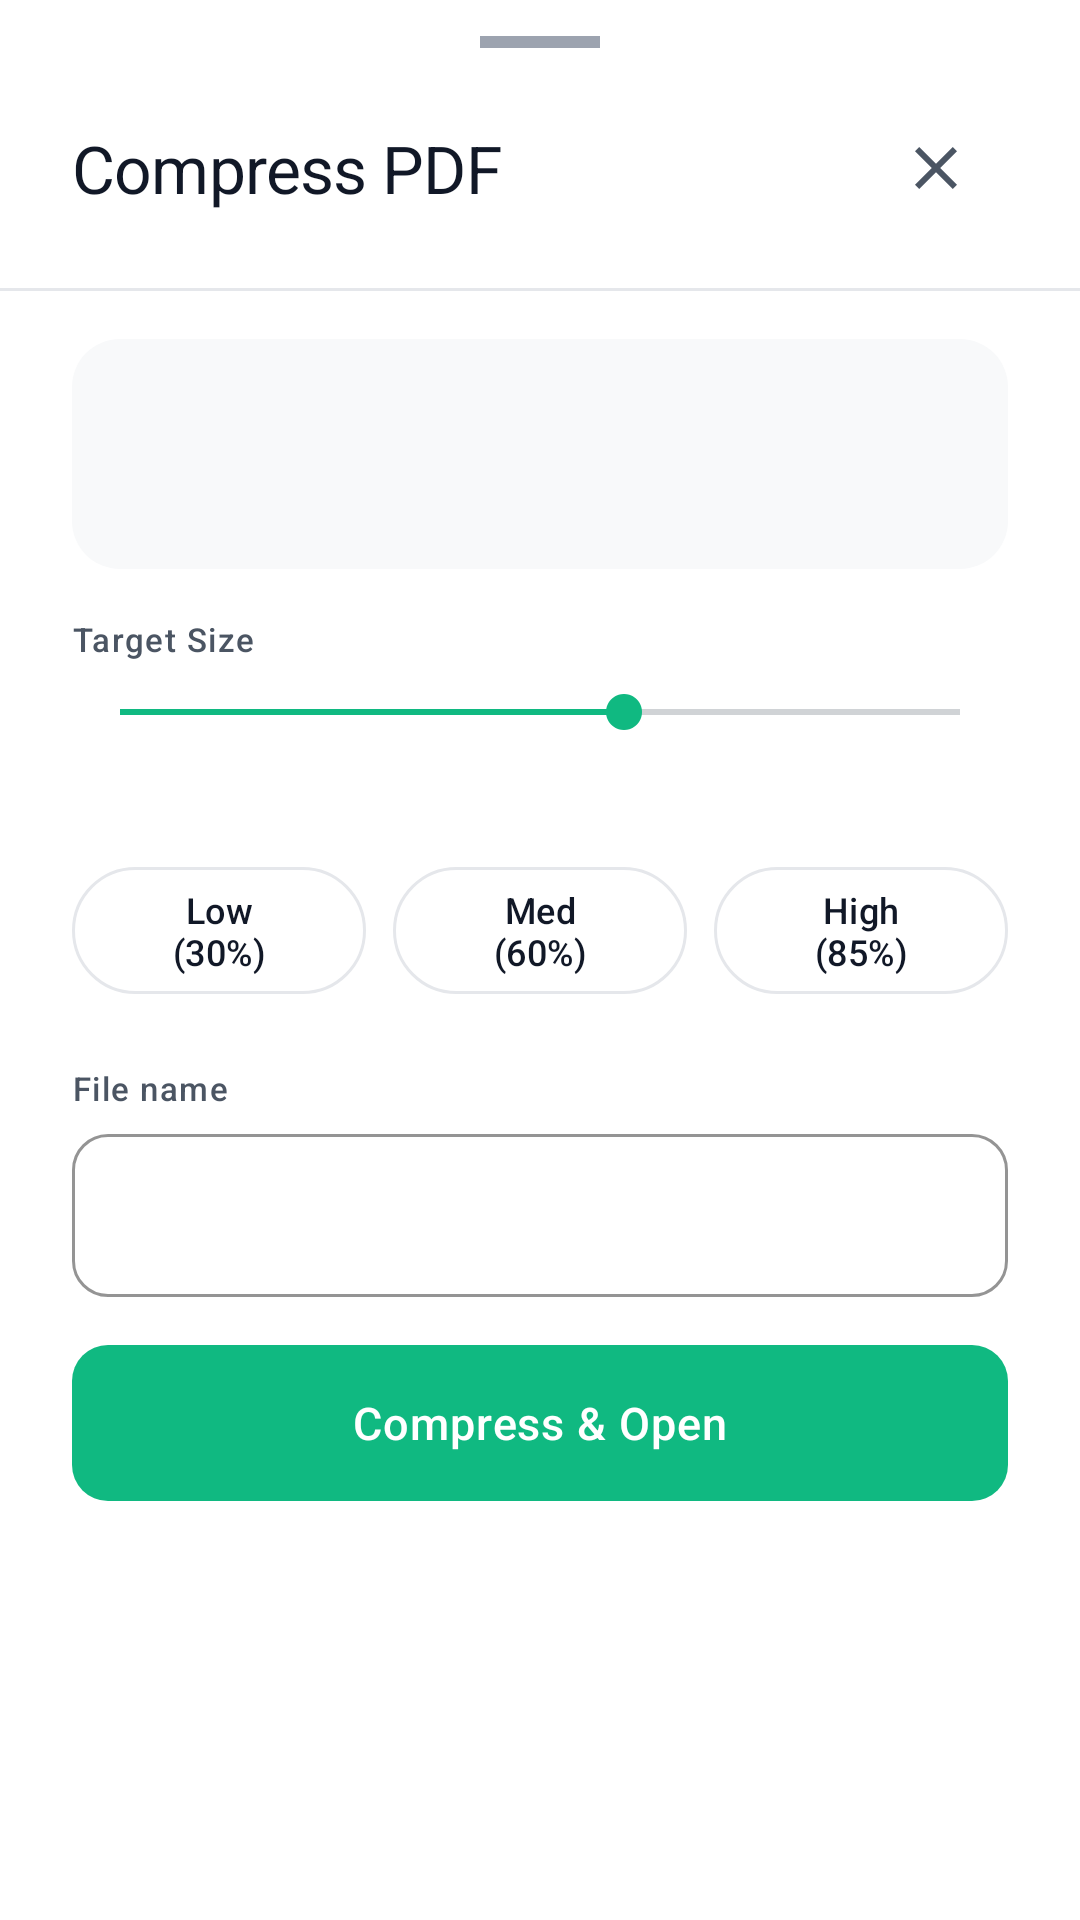

Where to tap for icons on this 1080×1920 app screen, as point (x, y):
Close: point (936, 168)
